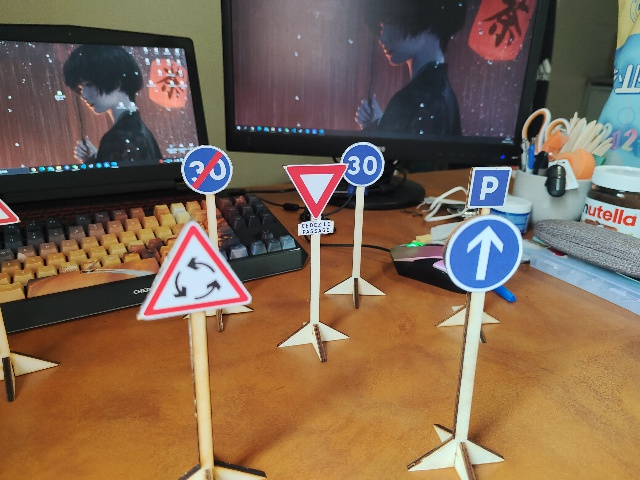P: (467, 166, 511, 208)
ban: (179, 147, 236, 195)
cycle: (137, 230, 249, 314)
second: (284, 162, 345, 237)
straight: (446, 217, 520, 291)
thirty: (341, 142, 384, 186)
